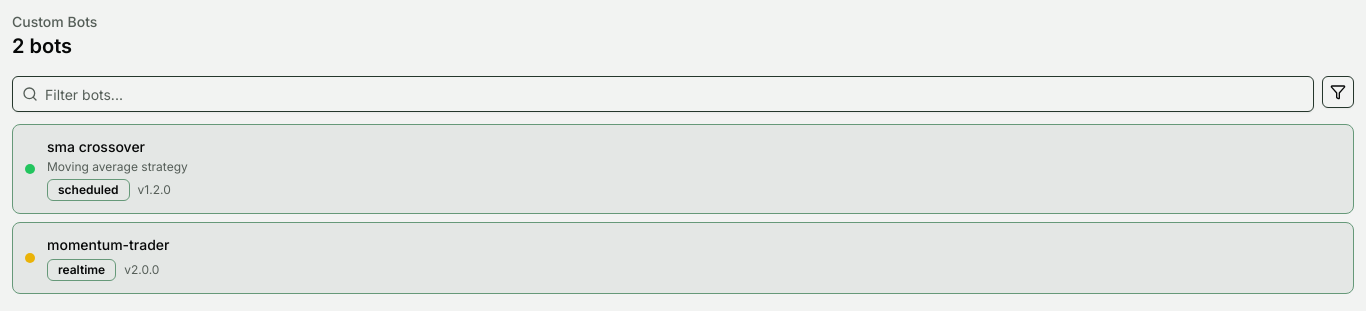
Test: CustomBotsPage › mobile filtering › filters by type and counts the active filter
Click the button named "Filter custom bots" at (1338, 92), box [1322,76,1354,108]
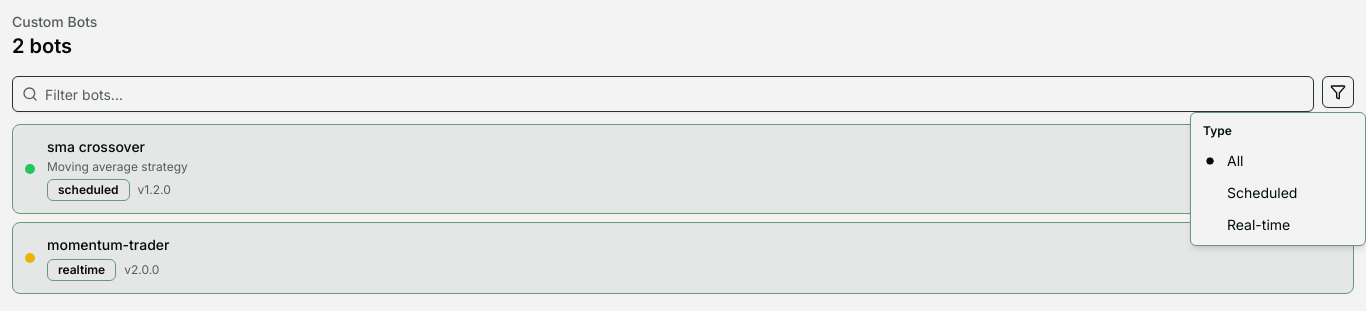
Click the menu item "Real-time" at (1259, 224), box [1227,216,1290,233]
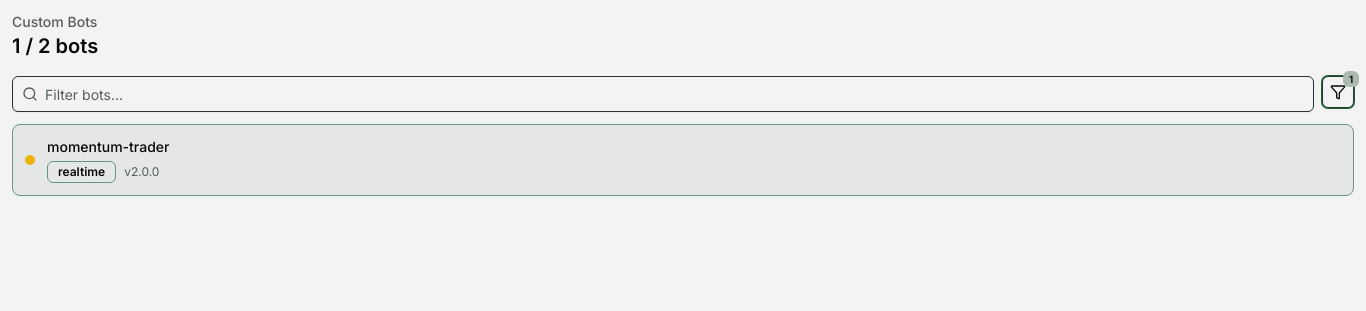
Expected: the button "momentum-trader realtime v2.0.0" is shown, [12,124,1354,196]
Expected: the text "1 / 2 bots" is shown, [12,34,98,58]
Expected: the button named "Filter custom bots (1 active)" reads "1", [1322,76,1354,108]
